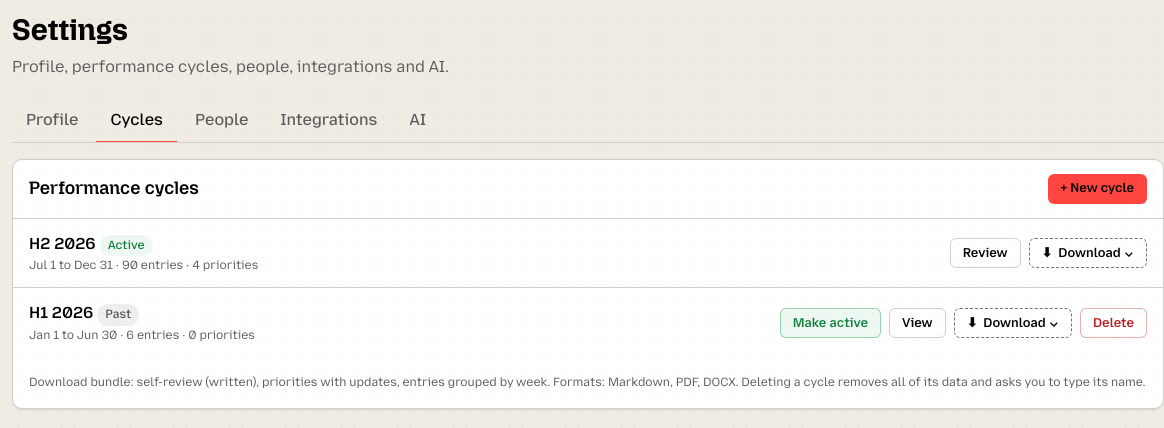
Test case: Settings › renders the tab from the URL and switches tabs
Check: the heading "Performance cycles" is shown, box [29, 177, 199, 200]
Click the tab "People". click: (222, 121)
box: [181, 99, 262, 143]
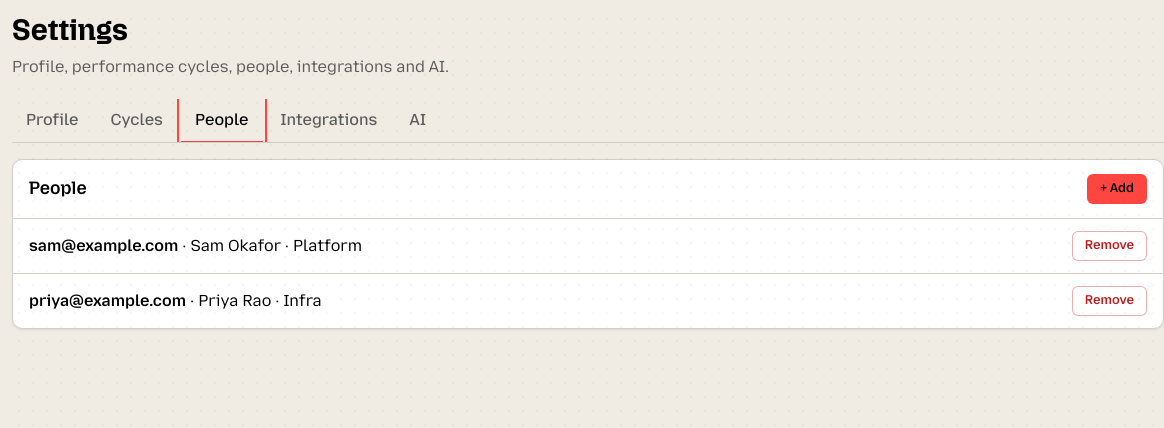
Check: the text "sam@example.com" is shown, box [29, 236, 178, 255]
